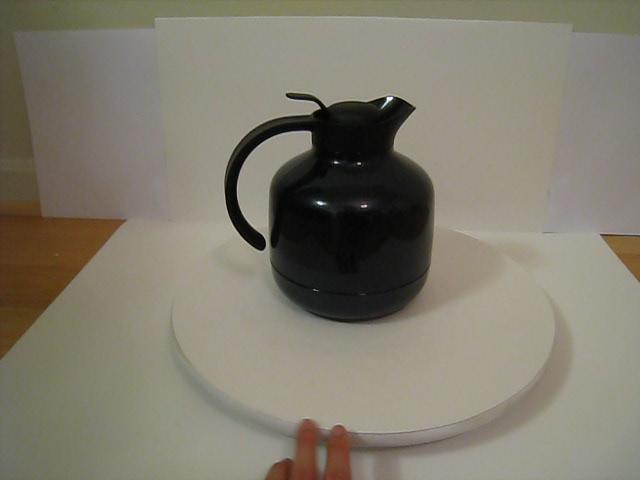pitcher: (219, 86, 448, 331)
